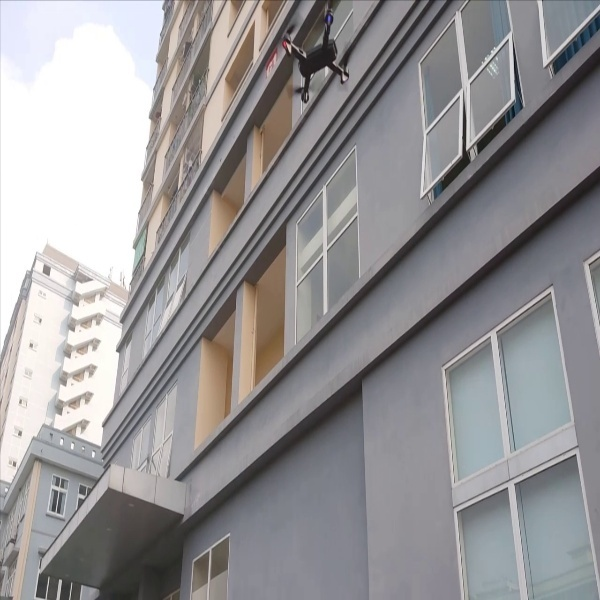drone: (273, 2, 361, 110)
